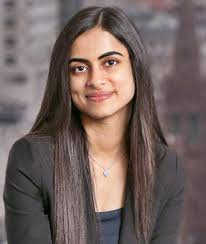without_mask: (65, 24, 137, 121)
